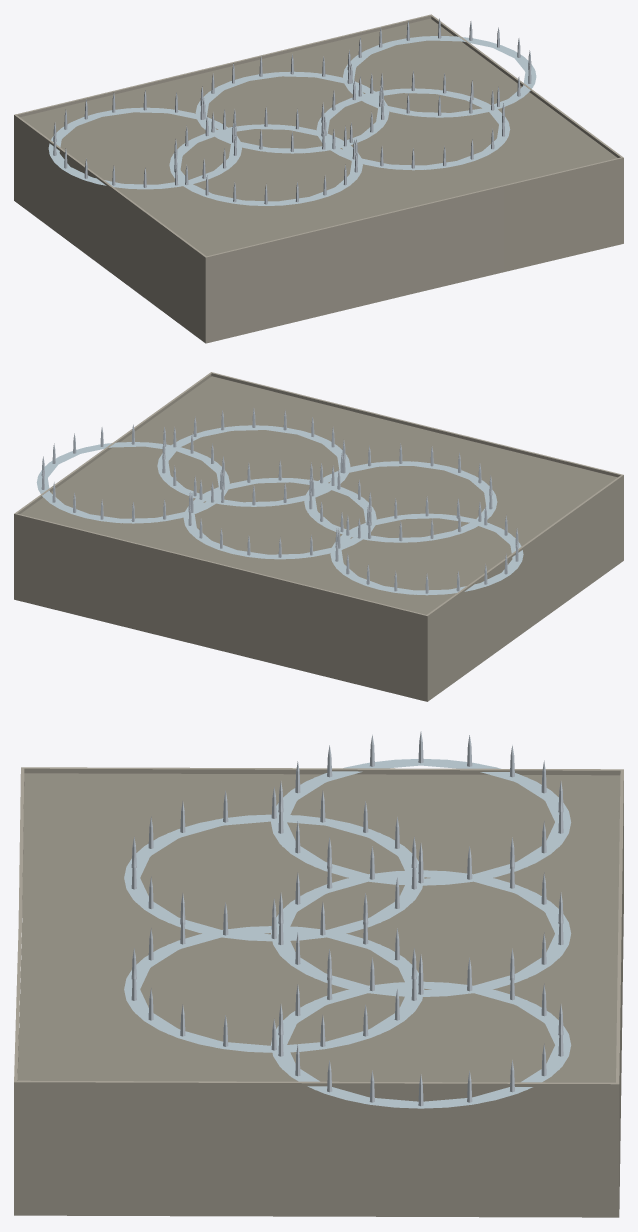
Rendered from fountain-of-rings.glb.
The picture shows the model from 3 angles, top to bottom: view 1: azimuth 30°, elevation 25°; view 2: azimuth 150°, elevation 25°; view 3: azimuth 270°, elevation 25°; orthographic projection. The views are drawn at different scales.
Visible parts, largest first — view 1: lod0_lm_stone, lod0_lm_glow, lod1_lm_glow, lod0_lm_glass; view 2: lod0_lm_stone, lod0_lm_glow, lod1_lm_glow, lod0_lm_glass; view 3: lod0_lm_stone, lod0_lm_glow, lod1_lm_glow, lod0_lm_glass.
Part boxes in pixels (bbox=[...]): lod0_lm_stone: bbox=[14, 14, 623, 343]; lod0_lm_glow: bbox=[48, 36, 536, 205]; lod1_lm_glow: bbox=[49, 36, 535, 205]; lod0_lm_glass: bbox=[53, 18, 531, 204]; lod0_lm_stone: bbox=[14, 372, 623, 701]; lod0_lm_glow: bbox=[36, 425, 523, 595]; lod1_lm_glow: bbox=[37, 425, 522, 594]; lod0_lm_glass: bbox=[41, 408, 518, 593]; lod0_lm_stone: bbox=[14, 767, 623, 1217]; lod0_lm_glow: bbox=[124, 759, 571, 1108]; lod1_lm_glow: bbox=[124, 759, 570, 1108]; lod0_lm_glass: bbox=[131, 731, 563, 1106].
Bounding box in the file's own units: 36.1 × 7.8 × 26.6.
